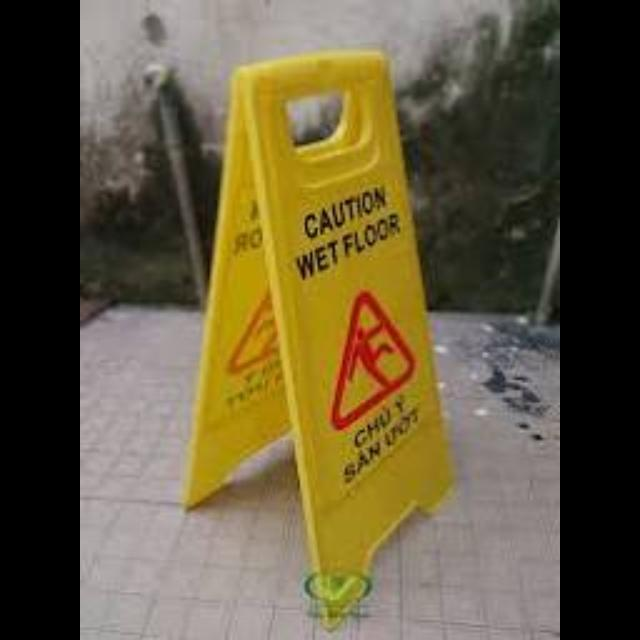tron truot: (182, 50, 450, 625)
